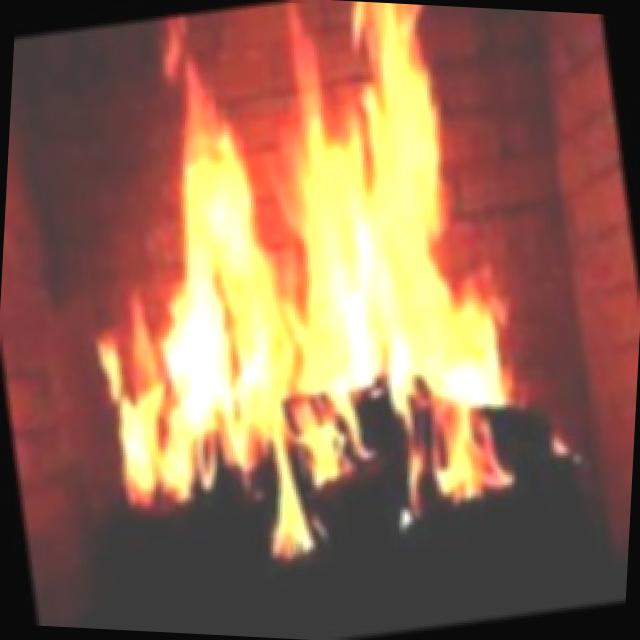fire: (16, 0, 617, 612)
